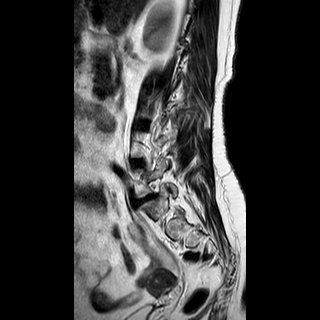RFS0: (145, 172, 167, 201)
